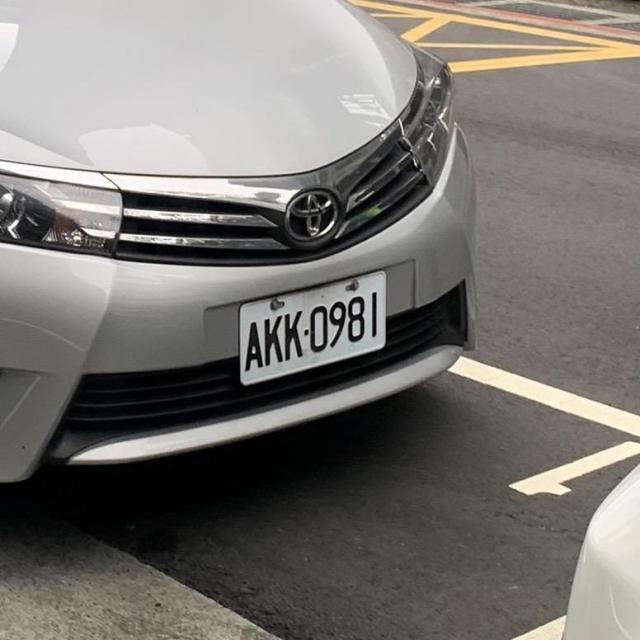W: (224, 254, 405, 393)
